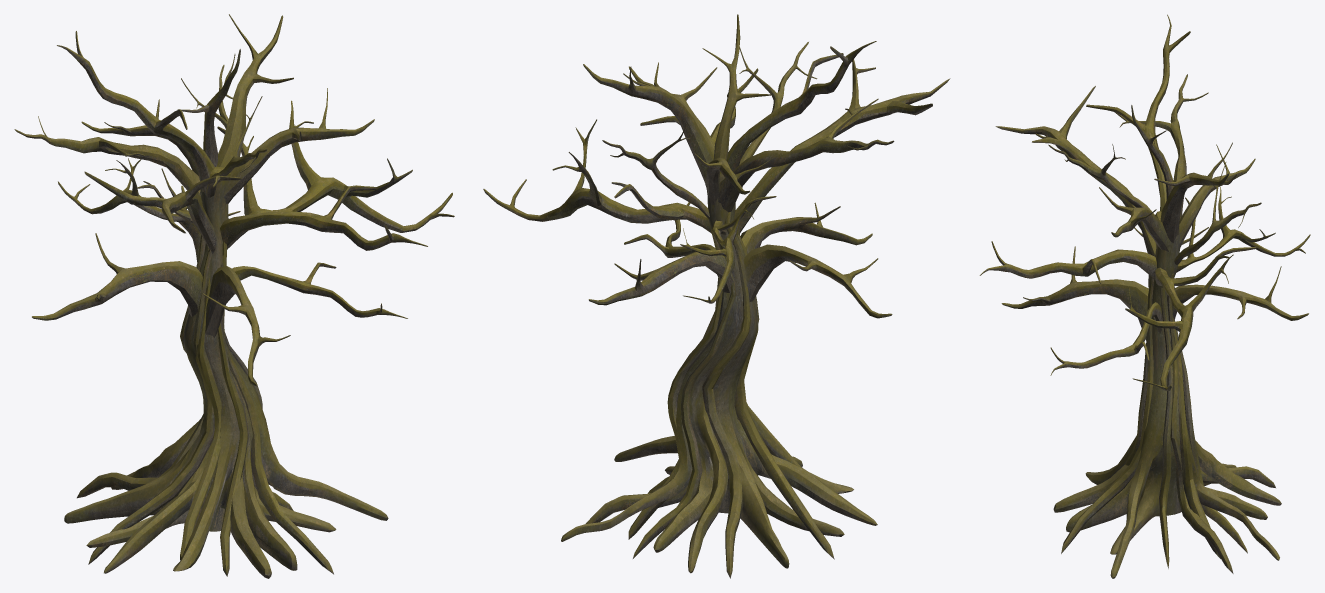
Rendered from Mystical Tree A.fbx.
3 views of the same model, side by side, from view 1: azimuth 30°, elevation 25°; view 2: azimuth 150°, elevation 25°; view 3: azimuth 270°, elevation 25° (orthographic). The views are drawn at different scales.
Parts seen in each view (by area): view 1: Cube.087; view 2: Cube.087; view 3: Cube.087.
Boxes of the visible parts, x1,y1,x2,y2 form: Cube.087: [14, 14, 454, 578]; Cube.087: [483, 14, 950, 578]; Cube.087: [979, 14, 1310, 578].
Size of the model in its own units: 13246 by 16000 by 10507.
